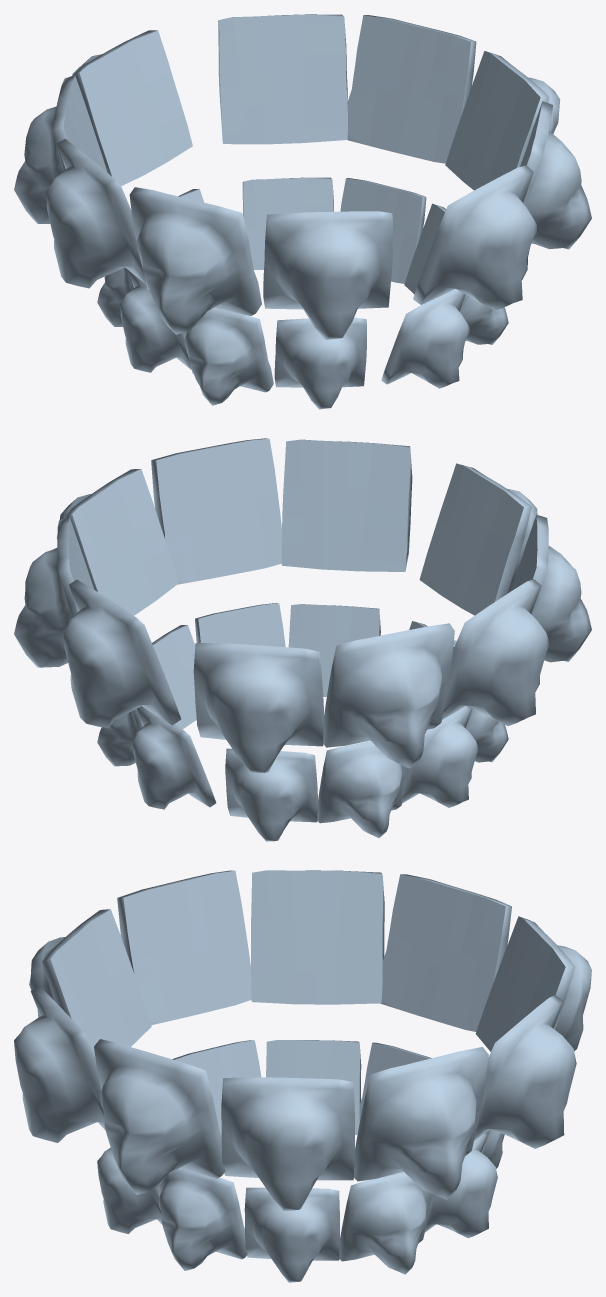
File: Statues_Grp_02B_Lod0.fbx
3 views of the same model, one above another, from view 1: azimuth 30°, elevation 25°; view 2: azimuth 150°, elevation 25°; view 3: azimuth 270°, elevation 25° (orthographic). The views are drawn at different scales.
Parts seen in each view (by area): view 1: Statues_Grp_02B_Lod0; view 2: Statues_Grp_02B_Lod0; view 3: Statues_Grp_02B_Lod0.
Part boxes in pixels (x1,y1,x2,y2): Statues_Grp_02B_Lod0: (14, 14, 591, 409); Statues_Grp_02B_Lod0: (14, 438, 591, 841); Statues_Grp_02B_Lod0: (14, 870, 591, 1282).
Size of the model in its own units: 248 by 109 by 245.
